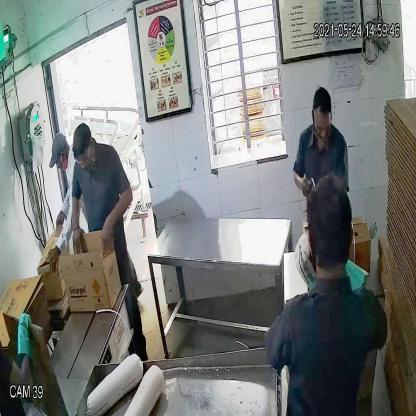goggles: (72, 147, 91, 166)
